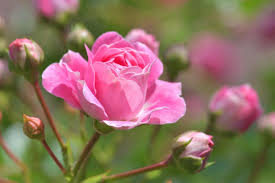rose: (54, 31, 184, 129)
